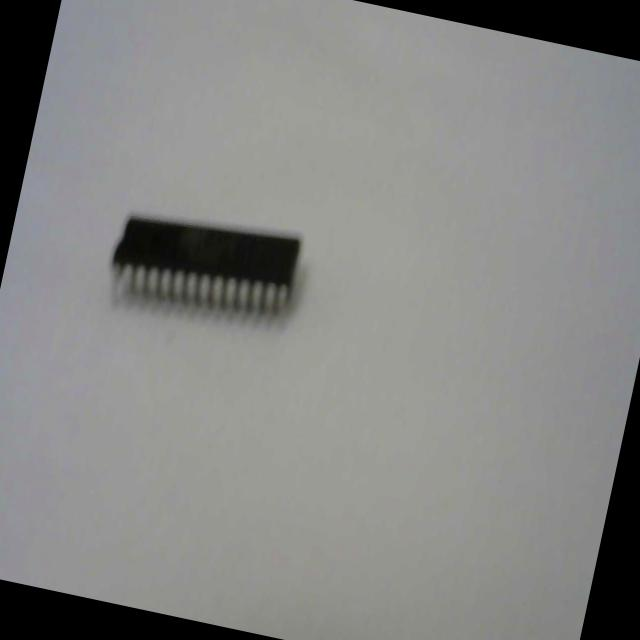atmega: (99, 192, 308, 346)
